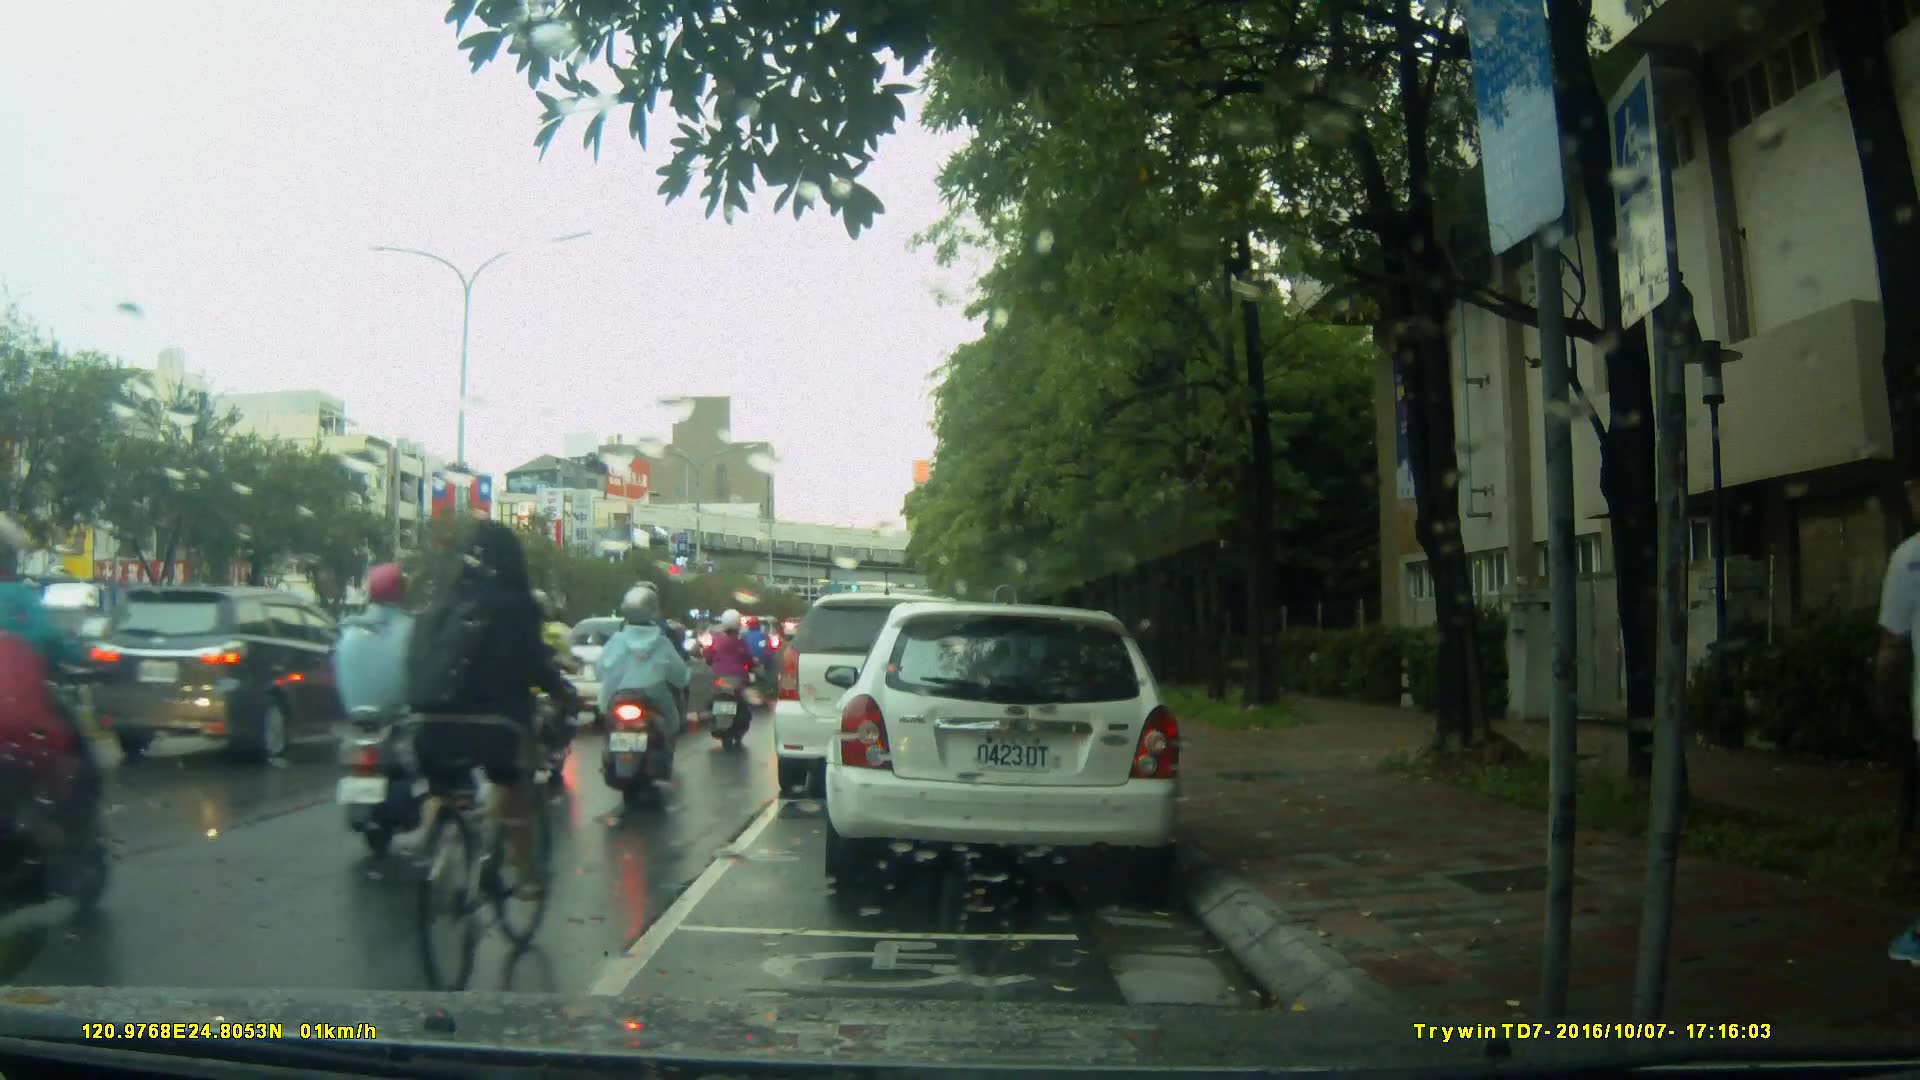pedestrian: (1856, 460, 1920, 986)
rider: (416, 517, 586, 971), (340, 559, 457, 872), (610, 584, 693, 804), (500, 588, 592, 786), (613, 584, 698, 776), (699, 614, 760, 757), (731, 610, 776, 690)
vehicle: (822, 604, 1188, 883), (77, 583, 392, 772), (774, 595, 995, 802)
